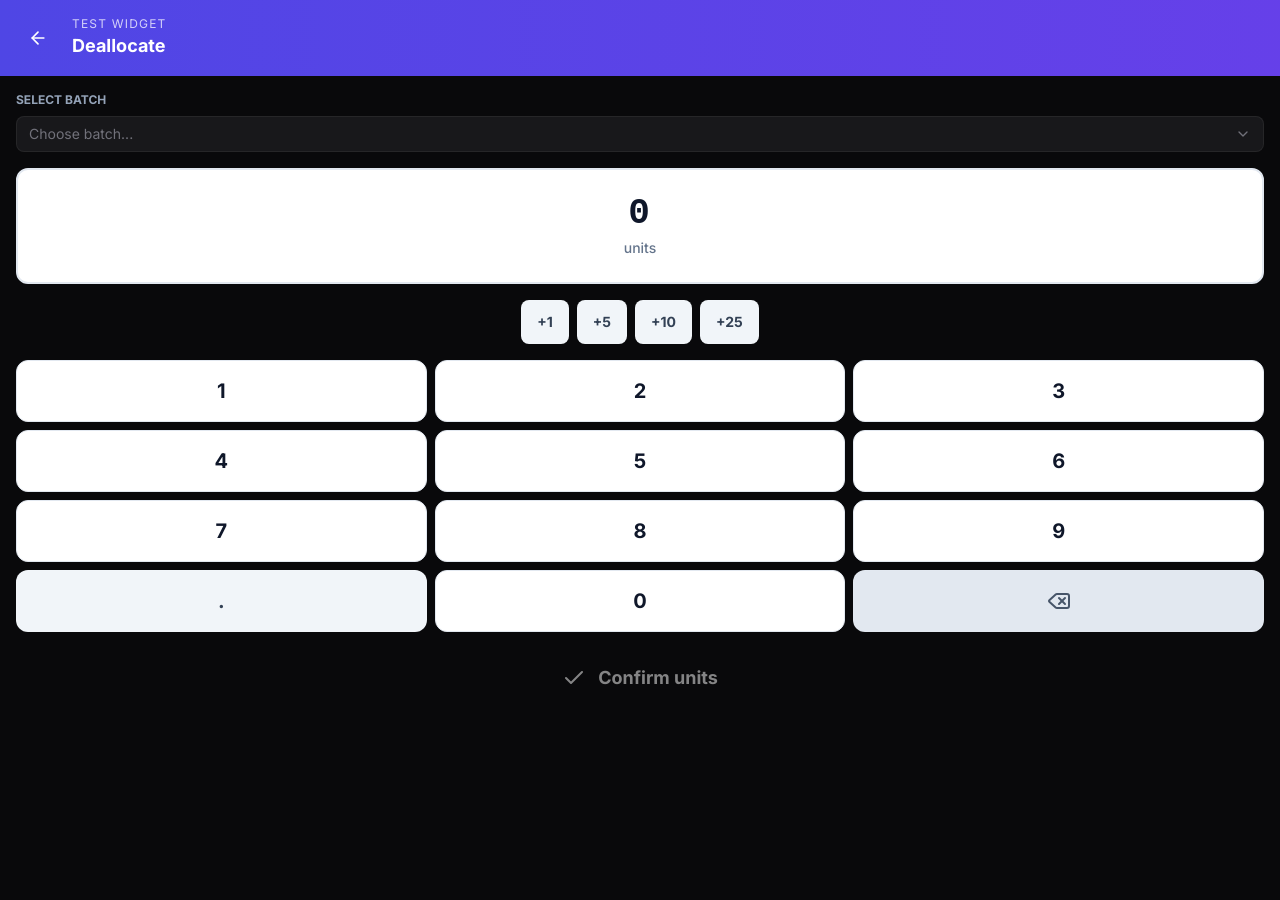
QuantityInput › shows batch selector for deallocate operation
The width and height of the screenshot is (1280, 900).
// Options render in the portal dropdown only once it is opened.
What coordinates should you click on to do the following:
click the dropdown named "select batch"
I would click on:
 (81, 134)
Its box is [16,116,1264,152].
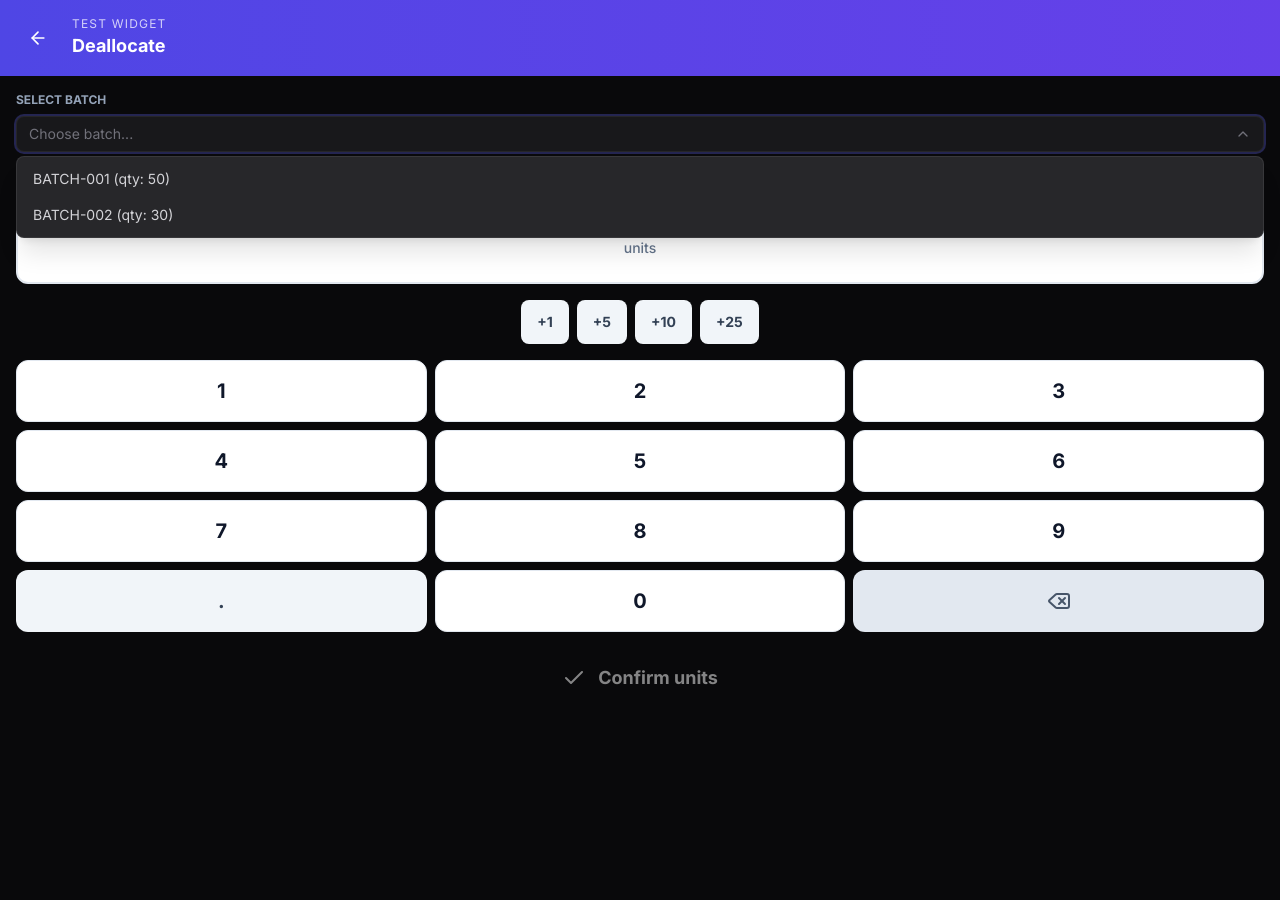
expect the text "BATCH-001 (qty: 50)" is shown: met, box [33,169,170,189]
expect the text "BATCH-002 (qty: 30)" is shown: met, box [33,205,173,225]
